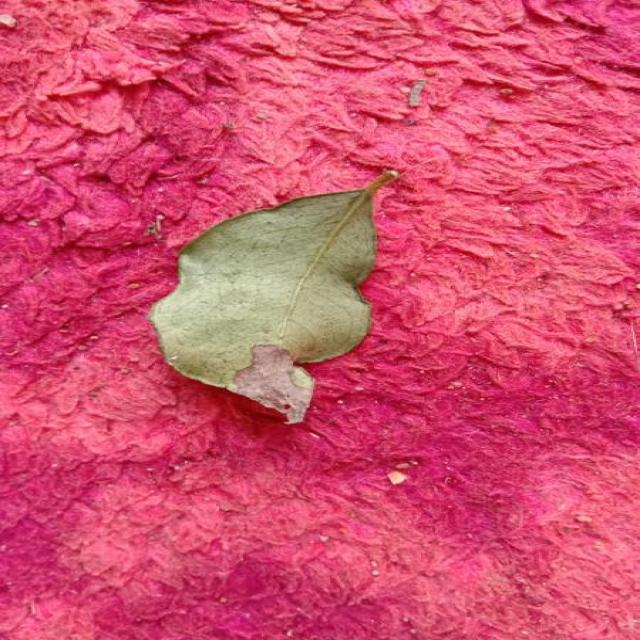leaf spot: (150, 171, 397, 423)
